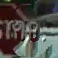Stop: (0, 2, 42, 56)
